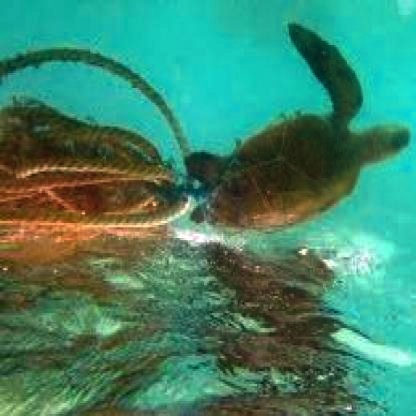net: (2, 49, 196, 238)
